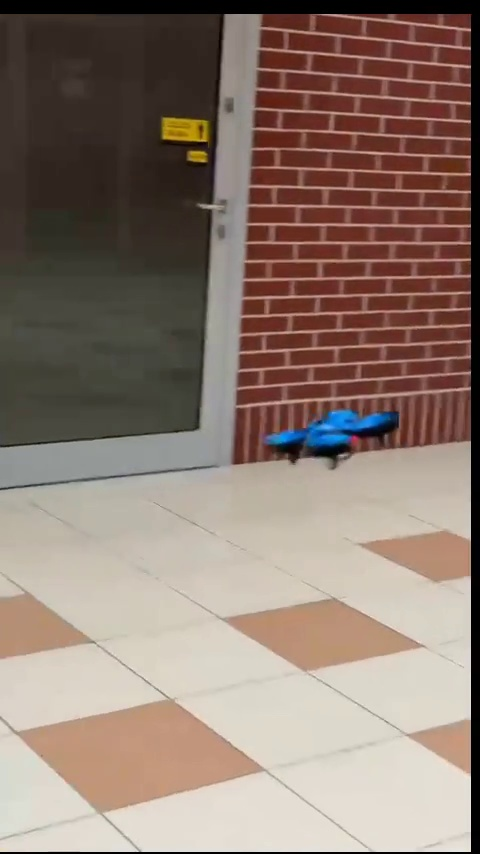drone: (265, 413, 399, 477)
